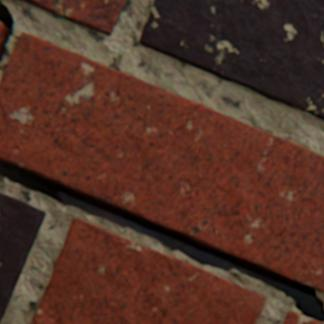brick: (0, 33, 323, 291), (32, 217, 265, 323), (140, 0, 323, 120), (0, 193, 46, 323), (20, 0, 126, 36), (284, 311, 322, 323), (0, 23, 3, 33)
crack: (0, 158, 323, 322), (0, 0, 15, 64)
